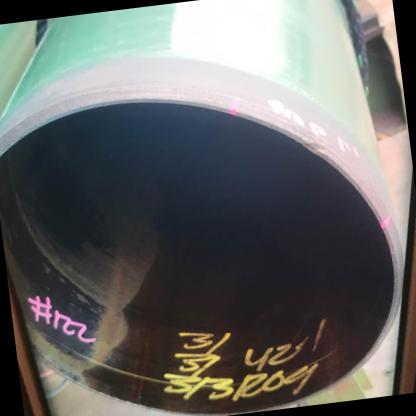Bevel: (296, 124, 328, 158)
